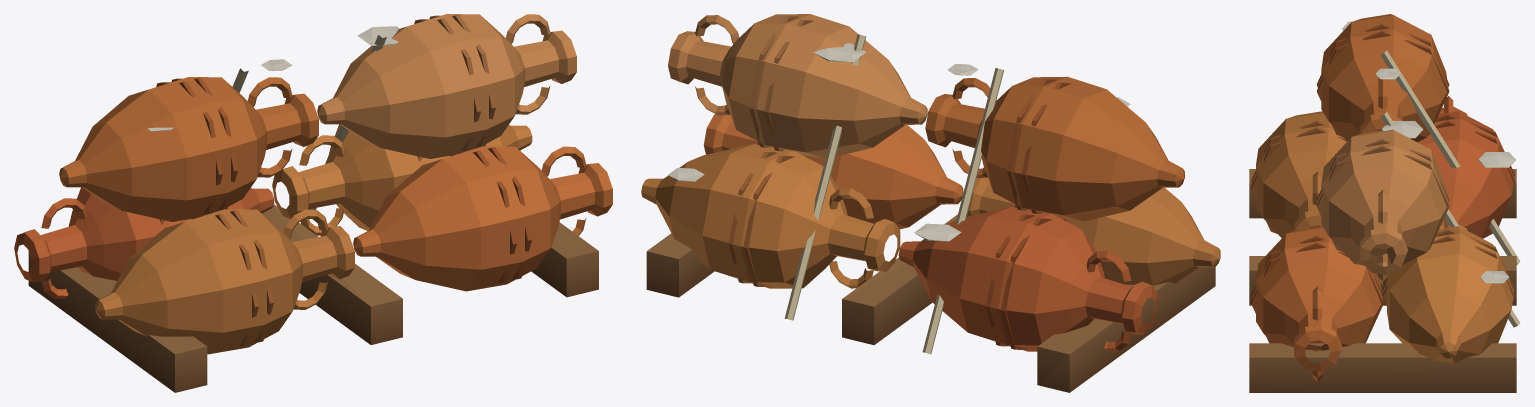
Rendered from amphorae_stack.glb.
The picture shows the model from 3 angles, left to right: view 1: azimuth 30°, elevation 25°; view 2: azimuth 150°, elevation 25°; view 3: azimuth 270°, elevation 25°; orthographic projection. The views are drawn at different scales.
Parts seen in each view (by area): view 1: amphorae_stack; view 2: amphorae_stack; view 3: amphorae_stack.
Boxes of the visible parts, x1,y1,x2,y2 form: amphorae_stack: (14, 14, 612, 392); amphorae_stack: (641, 14, 1220, 392); amphorae_stack: (1249, 14, 1520, 392).
Size of the model in its own units: 2.2 by 0.9911 by 1.12.
